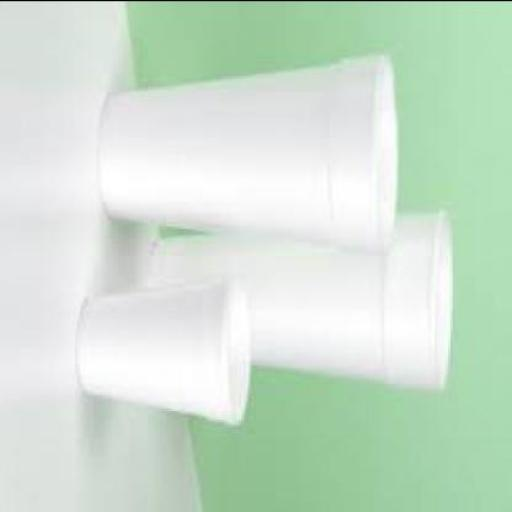paper: (100, 50, 401, 245), (155, 214, 453, 389), (80, 282, 252, 423)
